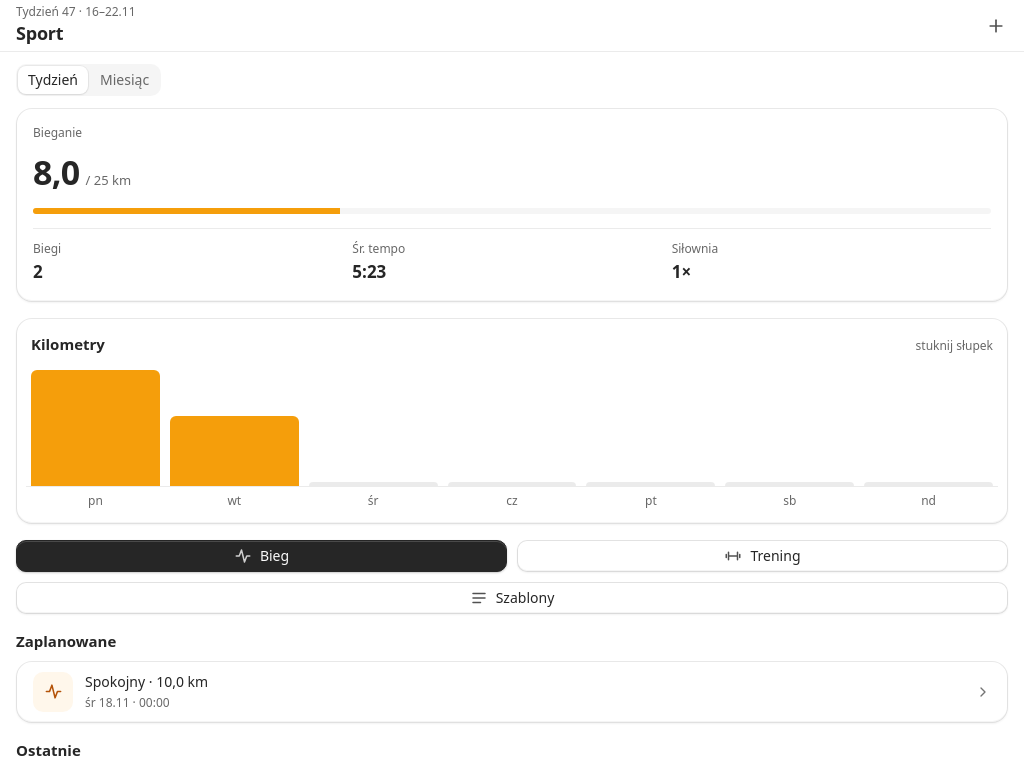
Test: MSport › bez szablonów: bez sekcji „Z szablonu”
This screenshot has width=1024, height=768.
Click the button "Trening" at (762, 556), box [517,540,1008,572]
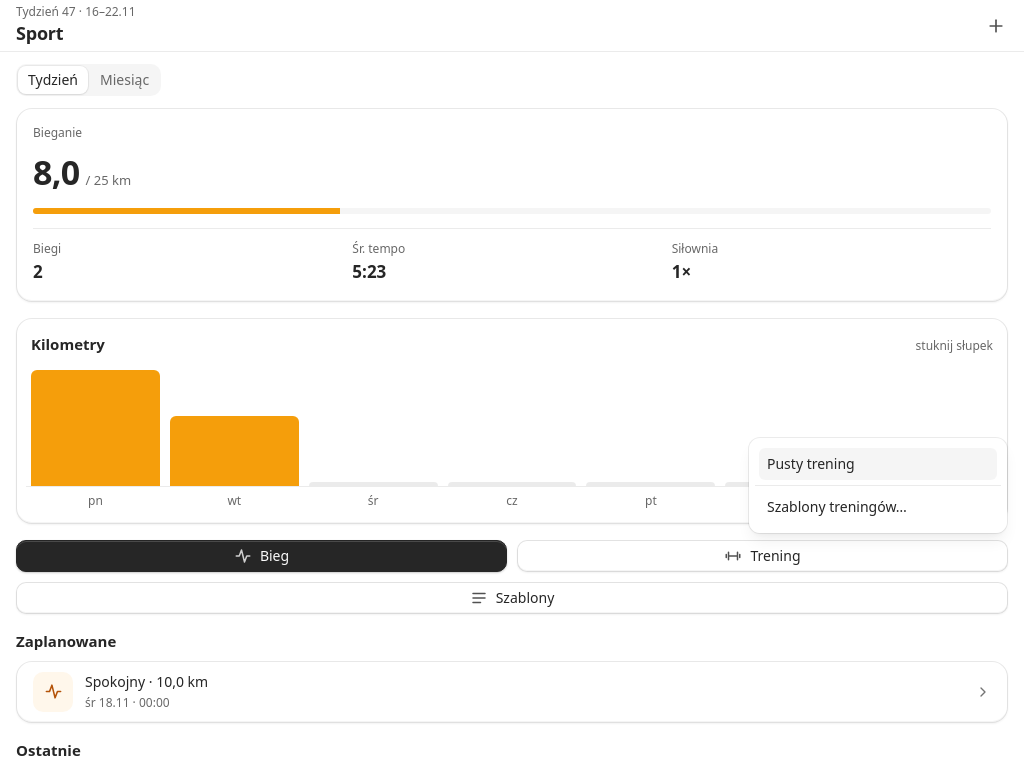
Check: the button "Pusty trening" is shown, box [759,448,997,480]
